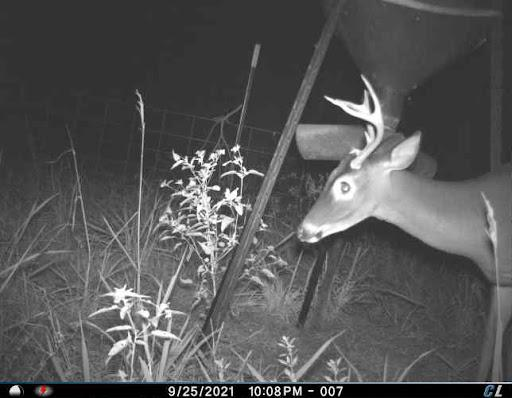Deer: (290, 69, 512, 383)
